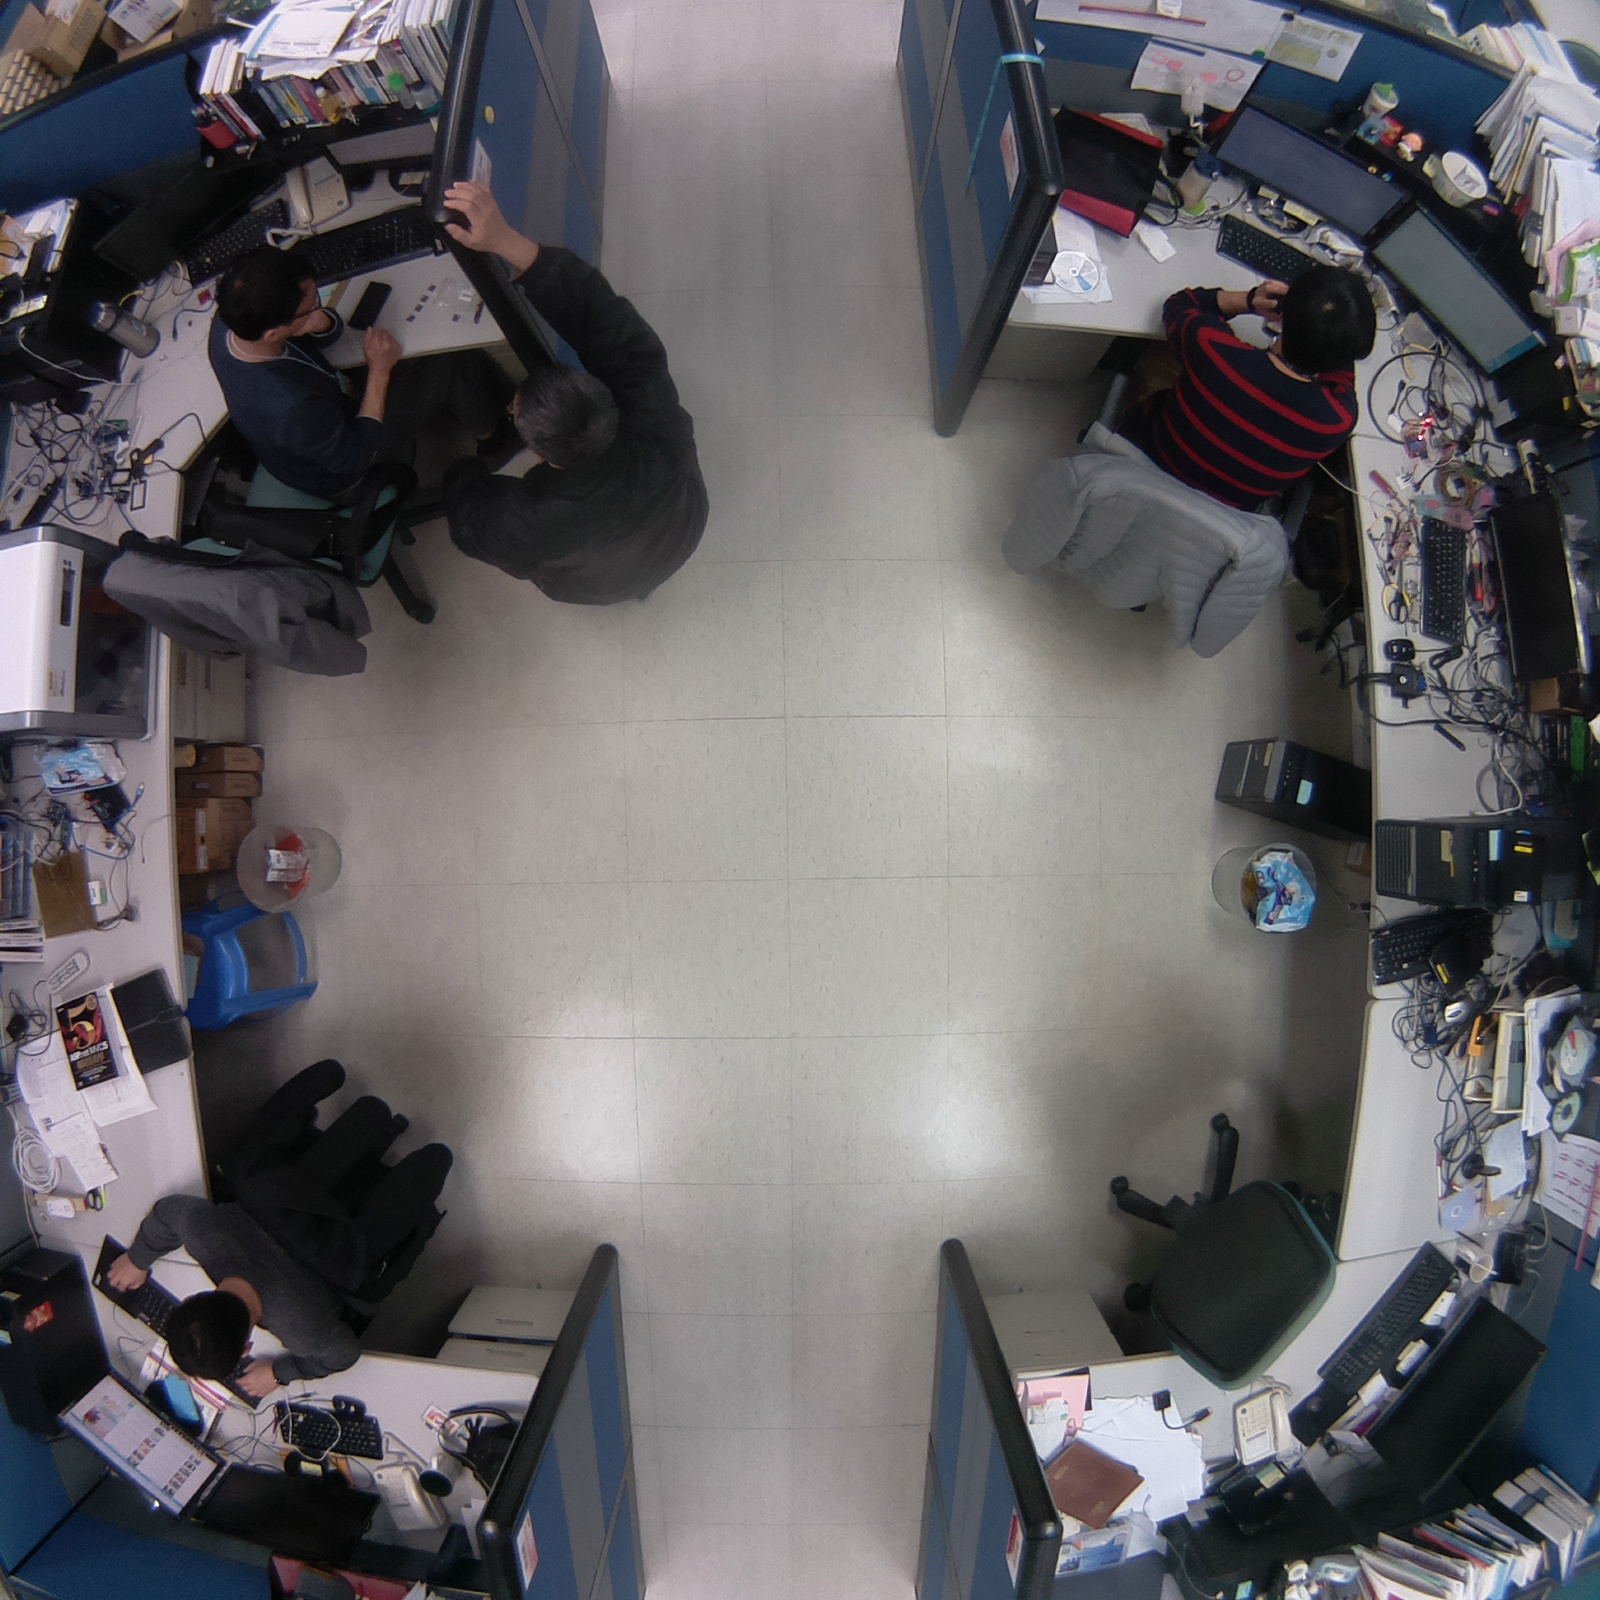chair: (1086, 1096, 1353, 1409)
head: (500, 361, 627, 470), (1274, 255, 1385, 372), (215, 244, 334, 348), (163, 1282, 259, 1389)
sitting: (988, 244, 1388, 673), (88, 244, 439, 686), (90, 1045, 473, 1398)
standing: (433, 340, 728, 617)
